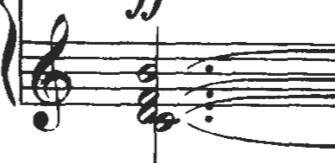treble_clef: (27, 9, 82, 143)
